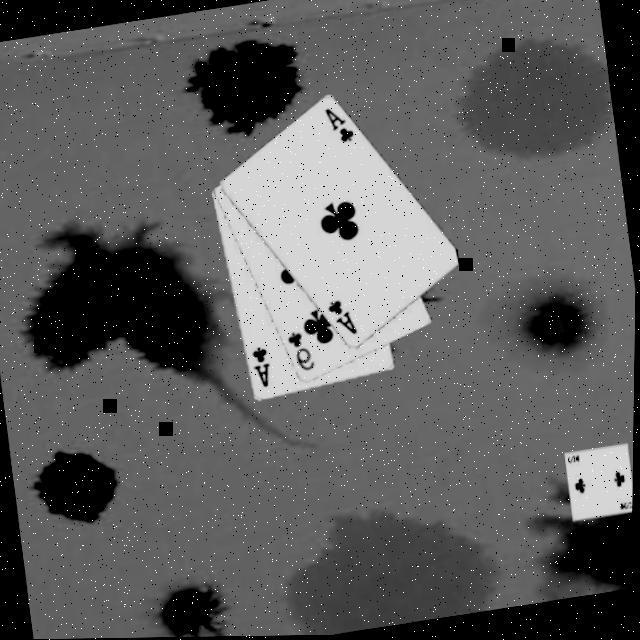6C: (284, 330, 322, 380)
AC: (321, 104, 361, 152), (324, 297, 364, 343), (249, 346, 278, 395)
